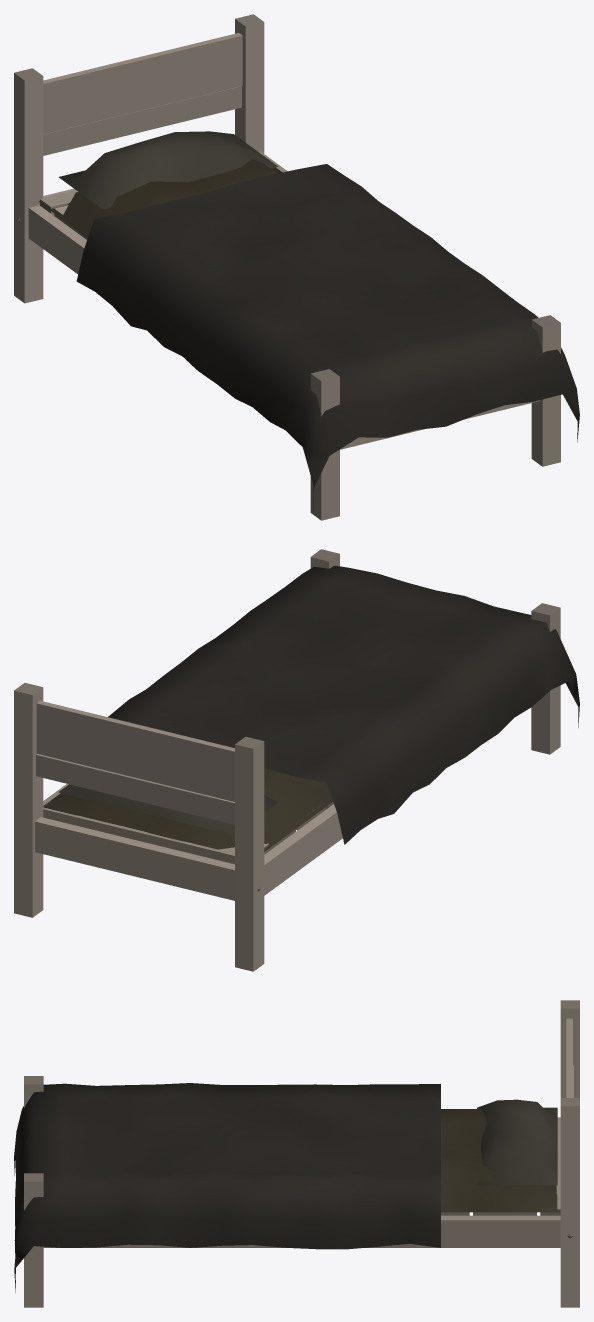
File: prop_bed_raised.glb
3 renders of one model, top to bottom at view 1: azimuth 30°, elevation 25°; view 2: azimuth 150°, elevation 25°; view 3: azimuth 270°, elevation 25°, orthographic. The views are drawn at different scales.
Parts seen in each view (by area): view 1: BedRaisedSoft, BedRaised; view 2: BedRaisedSoft, BedRaised; view 3: BedRaisedSoft, BedRaised.
Part boxes in pixels (left/top/right/bottom): BedRaisedSoft: left=38, top=131, right=579, bottom=510; BedRaised: left=14, top=14, right=560, bottom=520; BedRaisedSoft: left=43, top=565, right=579, bottom=851; BedRaised: left=14, top=549, right=560, bottom=971; BedRaisedSoft: left=14, top=1083, right=560, bottom=1292; BedRaised: left=24, top=1000, right=579, bottom=1307.
Size of the model in its own units: 1 by 0.8 by 2.04.
